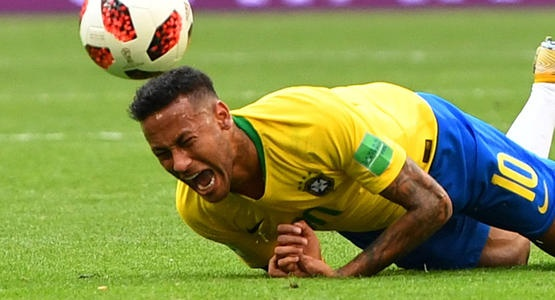falling: (114, 9, 555, 294)
